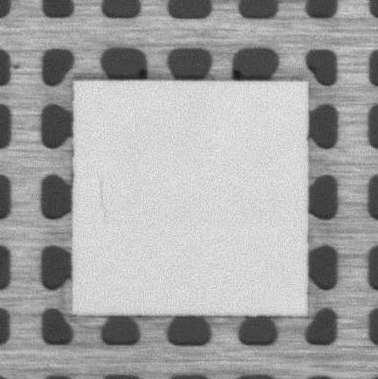DIE_CRACK: (96, 175, 111, 218)
